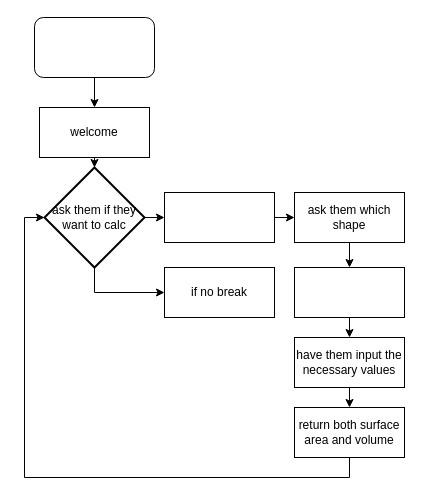
Image size: 422x503. Some labels were removed from this diagram. The box of each missing label's shape, as (x1, y1, x2, y2) in pixels:
ask them what type of shape (if there is any): (294, 266, 404, 318)
if yes: (164, 192, 274, 242)
Start: (34, 16, 154, 78)
